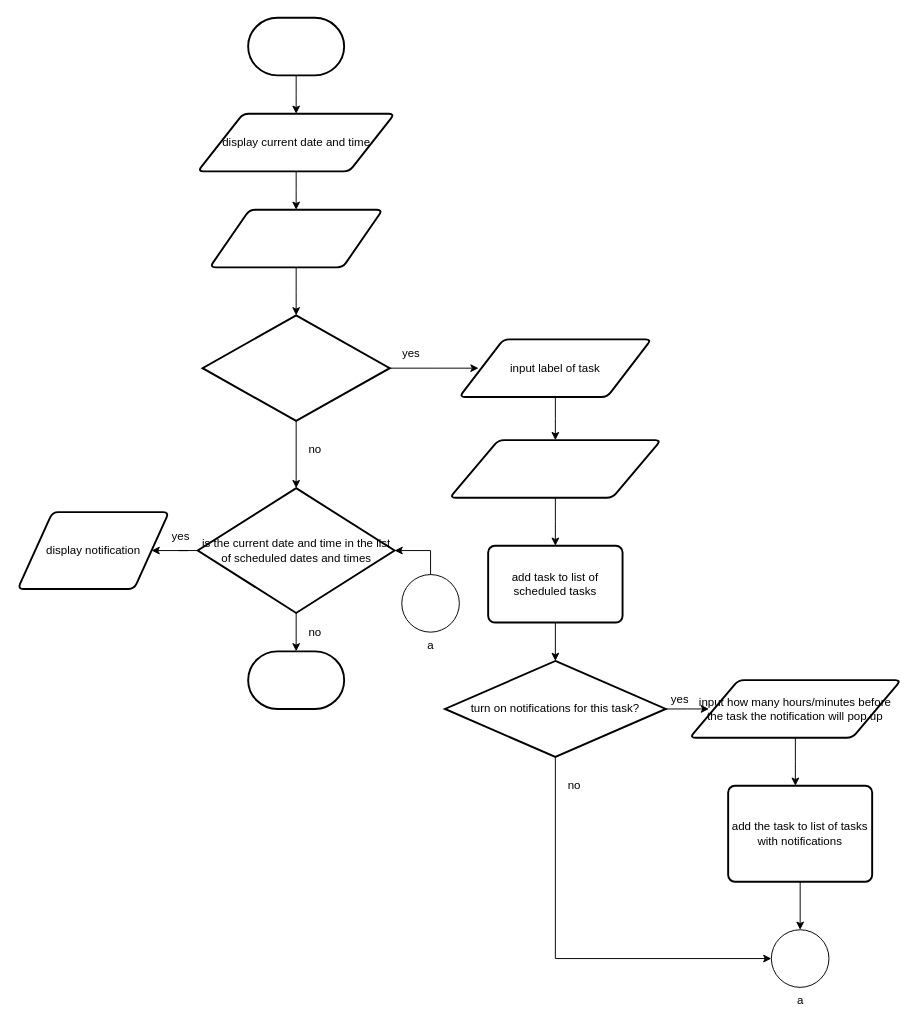
This 918x1023 diagram has some shape labels left out. The centre of each missing label's shape, as x and y in pixels:
"display tasks (if any)" goes at point 295,238.
"end" goes at point 296,679.
"input scheduled date and time" goes at point 554,468.
"schedule a new task?" goes at point 295,367.
"start" goes at point 296,46.
